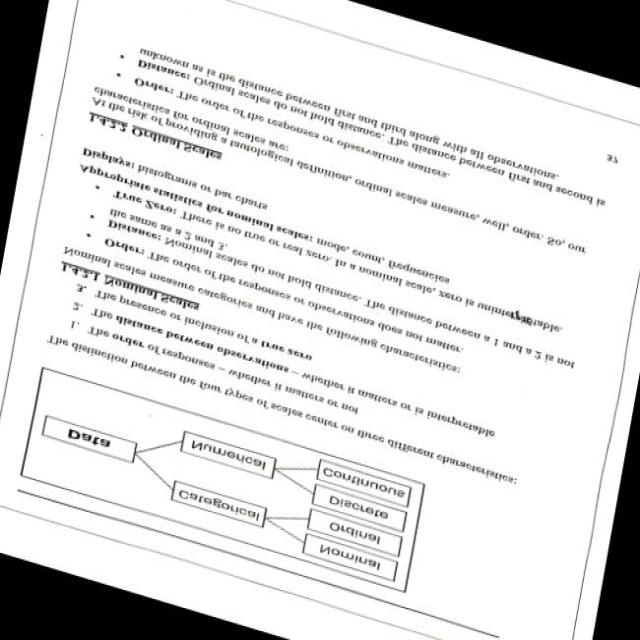Figure Detection - v3 Dataset Version2: (9, 358, 436, 604)
